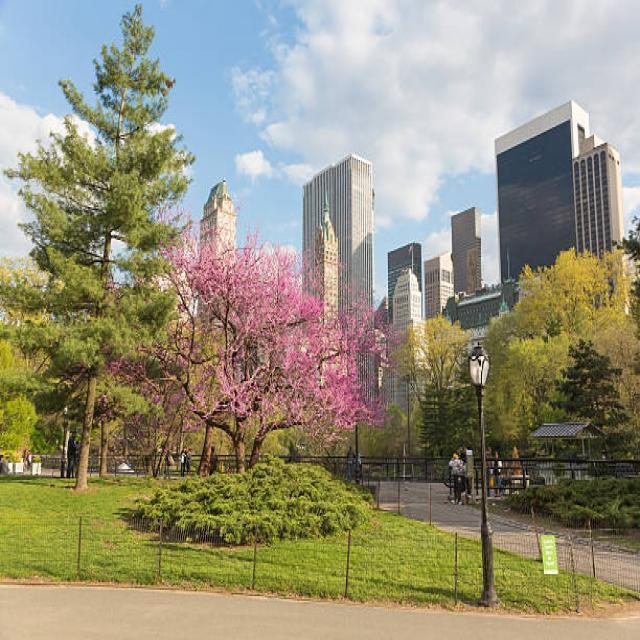tree: (144, 235, 386, 478), (21, 3, 193, 313), (43, 352, 125, 484)
